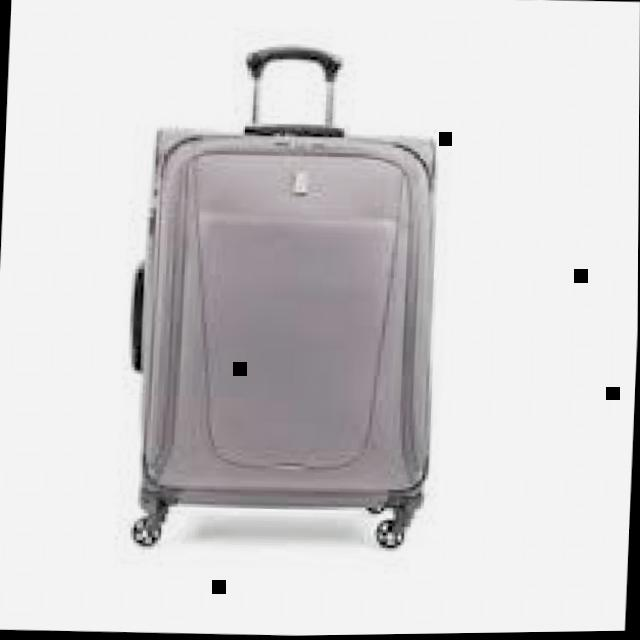luggage: (120, 105, 458, 520)
